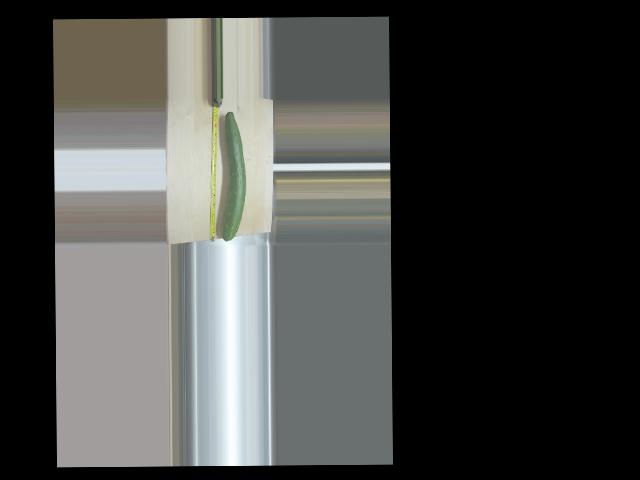cucumber: (219, 111, 246, 241)
